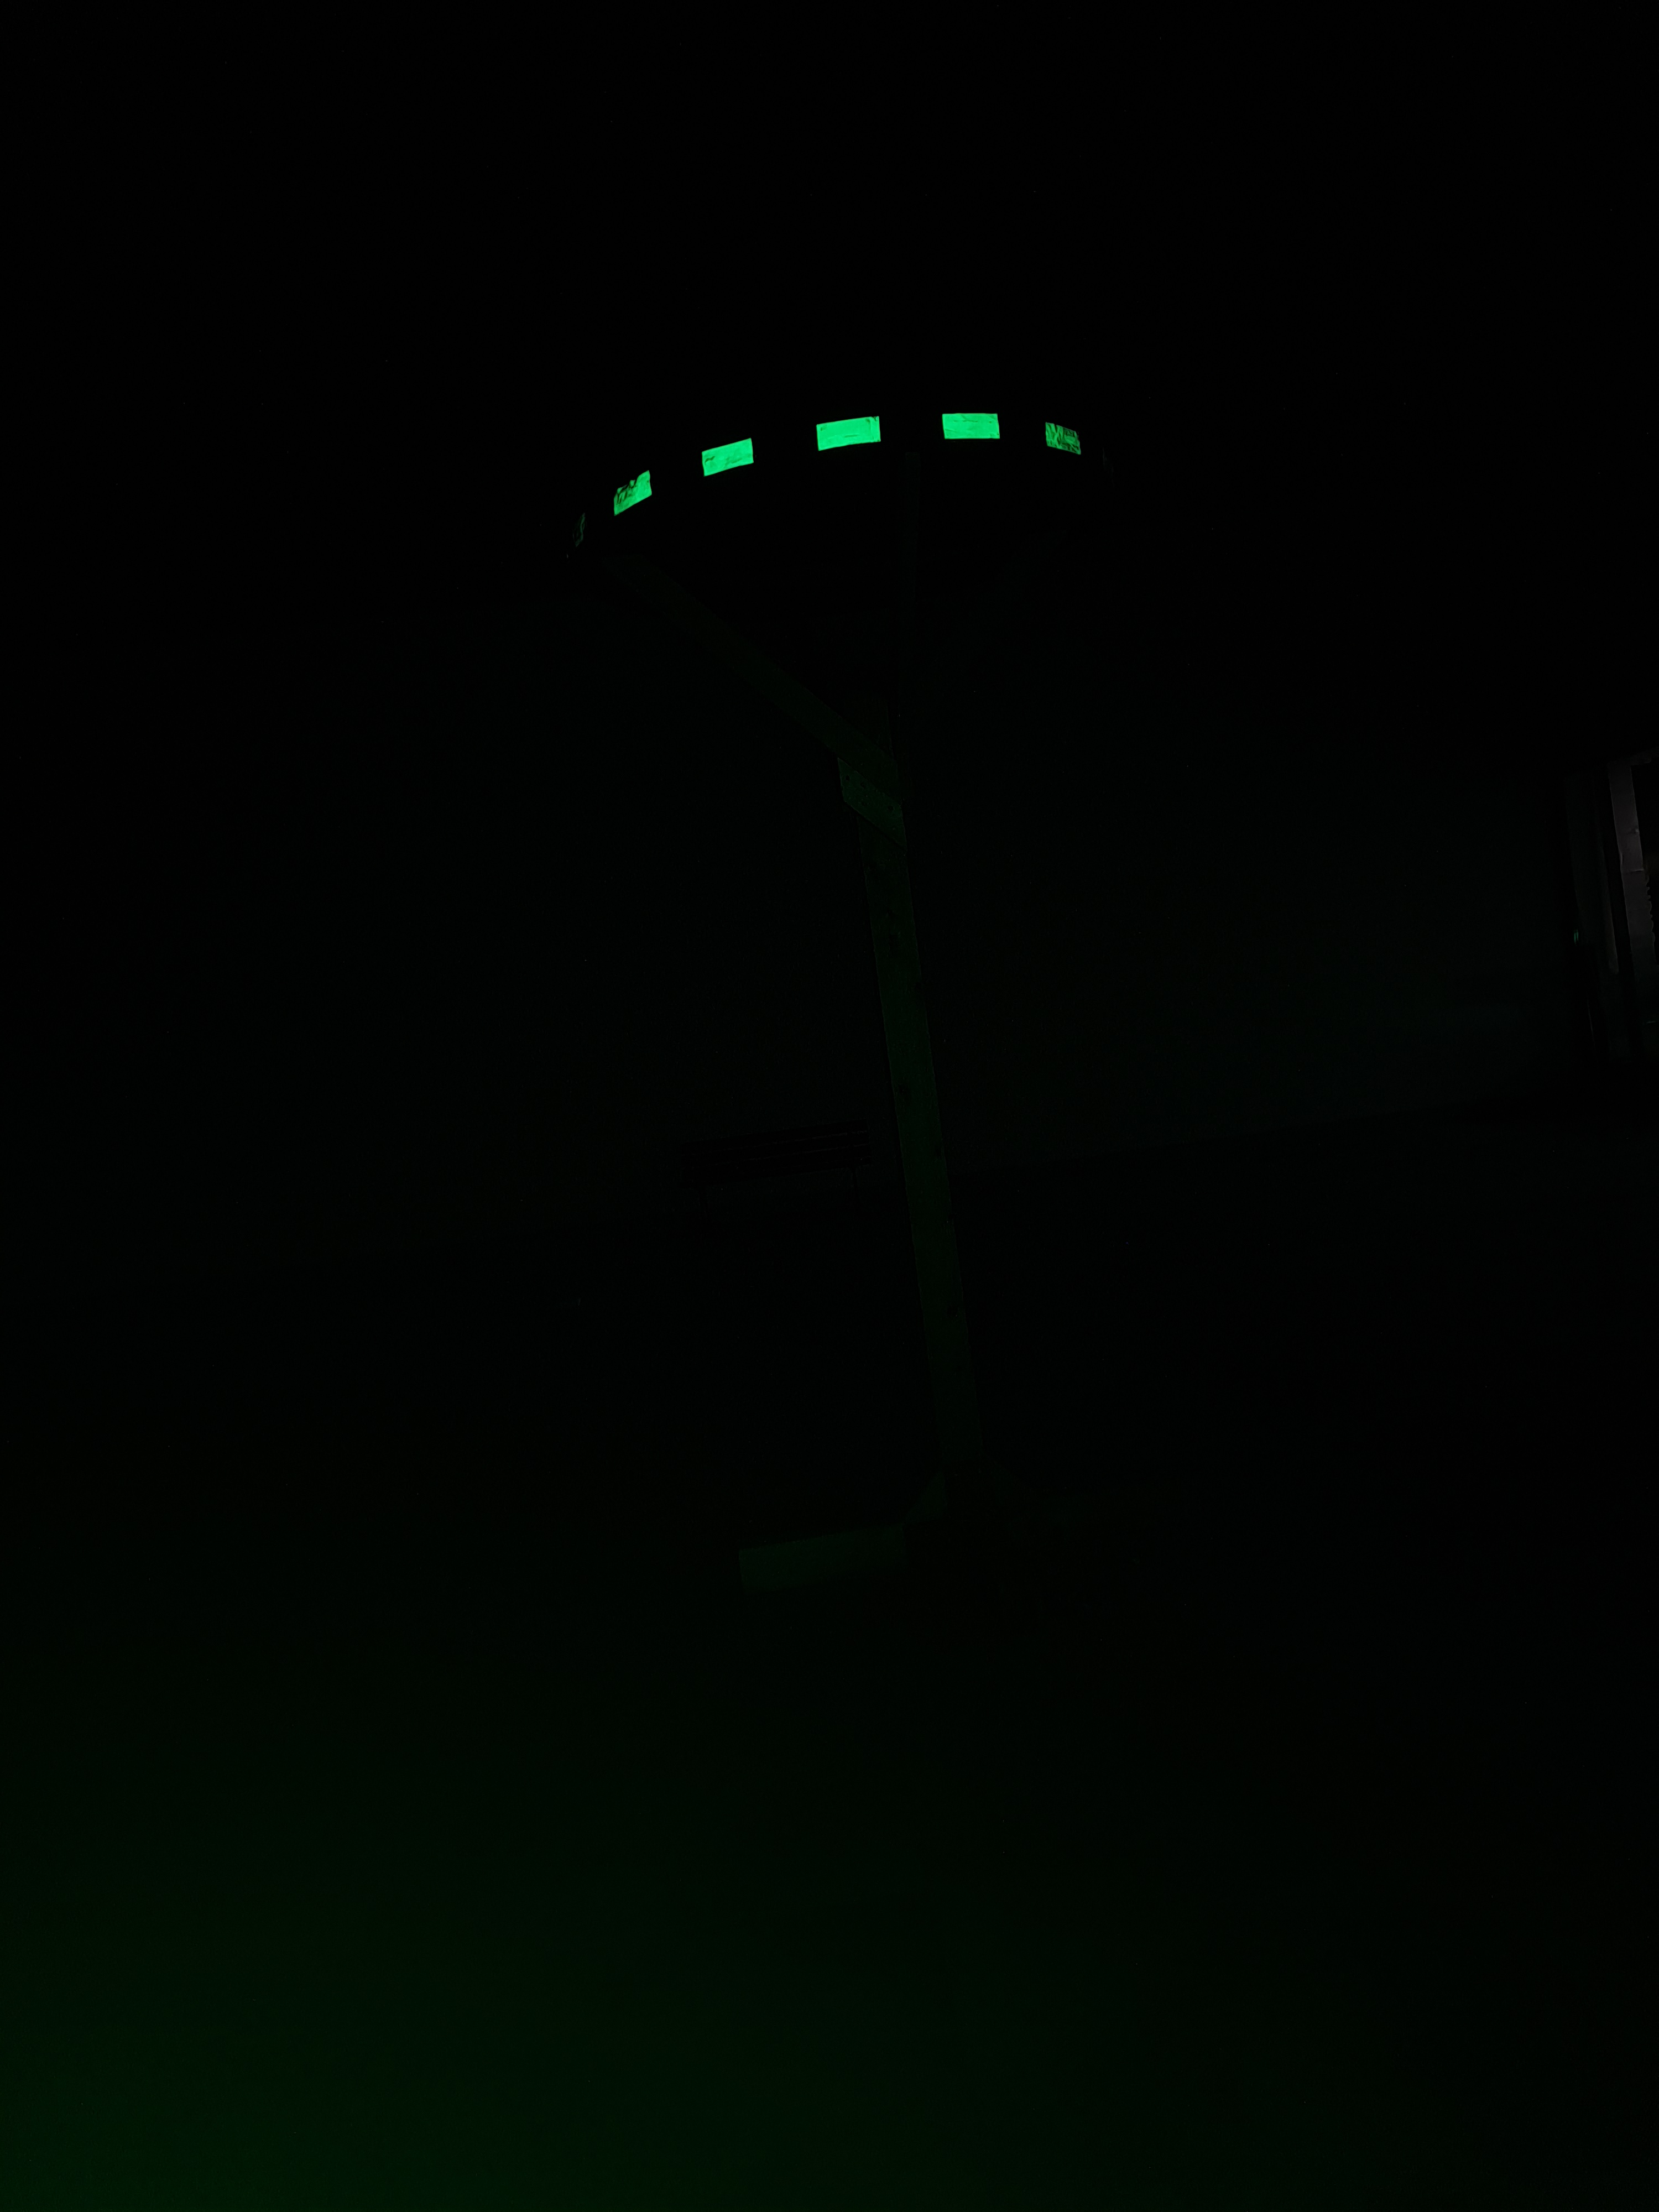hoop: (610, 408, 1084, 517)
